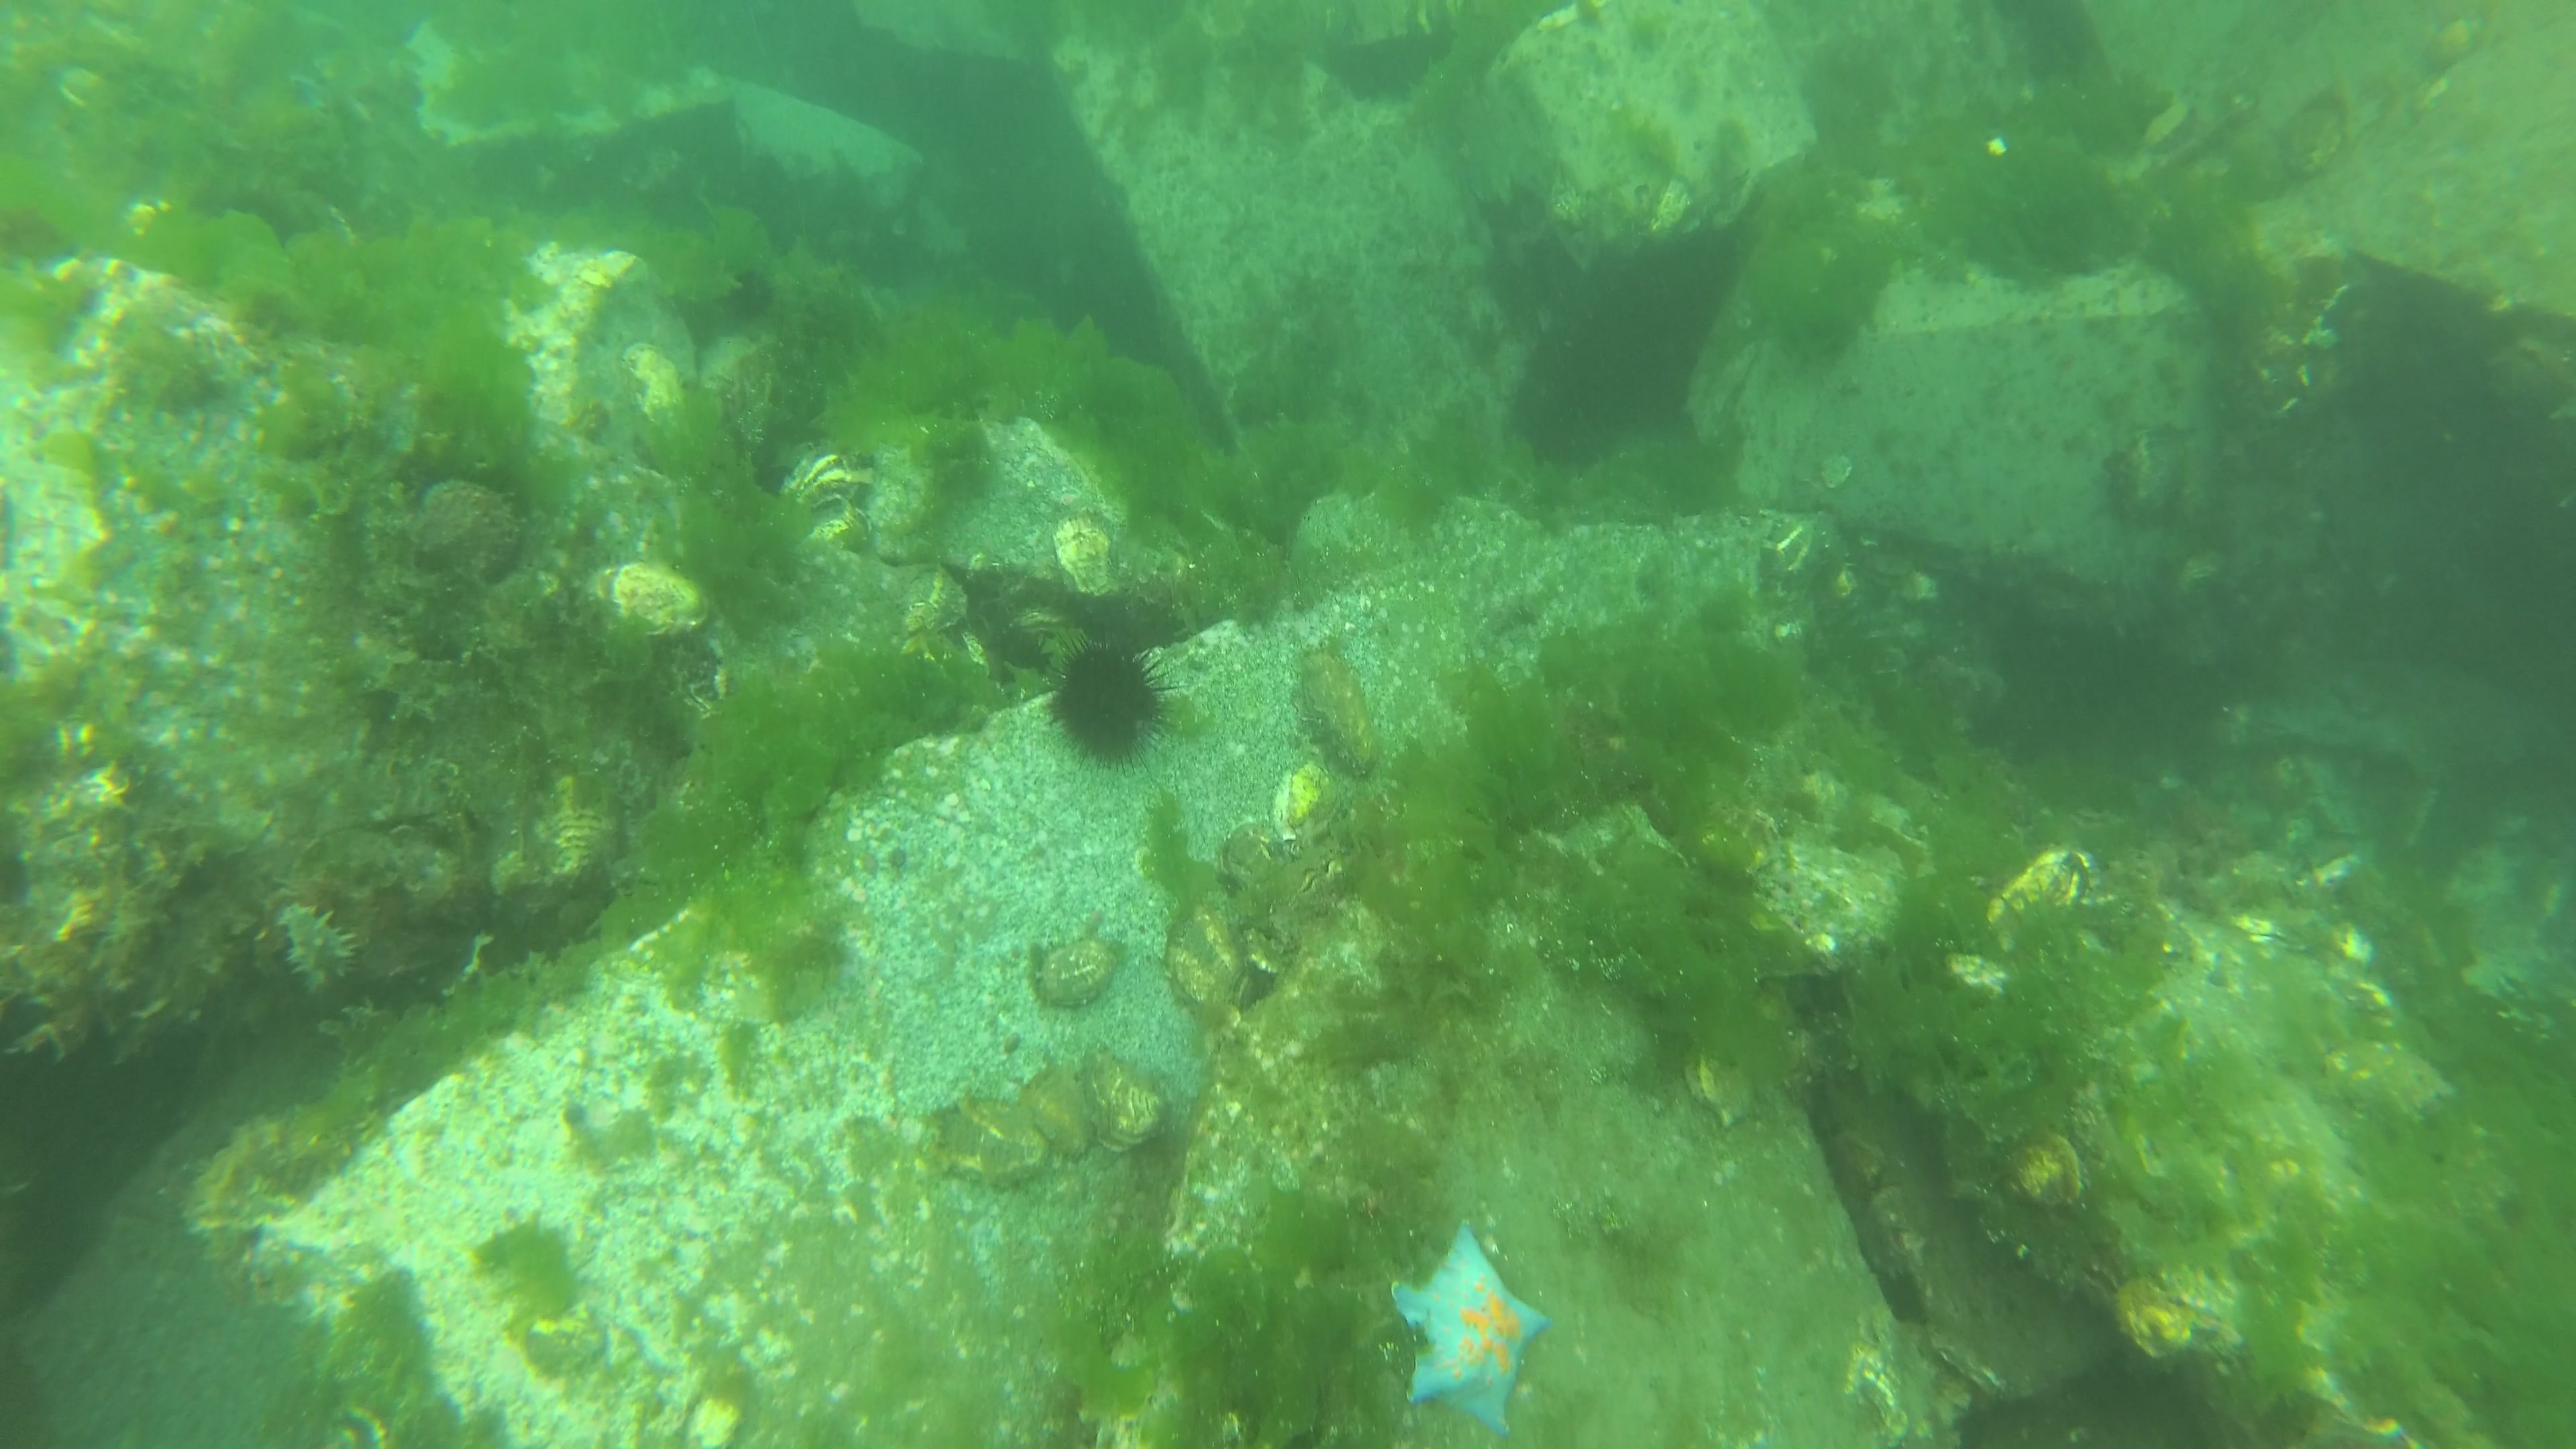echinus: (1044, 628, 1189, 778), (724, 269, 780, 318)
holothurian: (276, 901, 361, 996)
scallop: (1679, 1039, 1764, 1131)
starfish: (1391, 1217, 1555, 1438)
